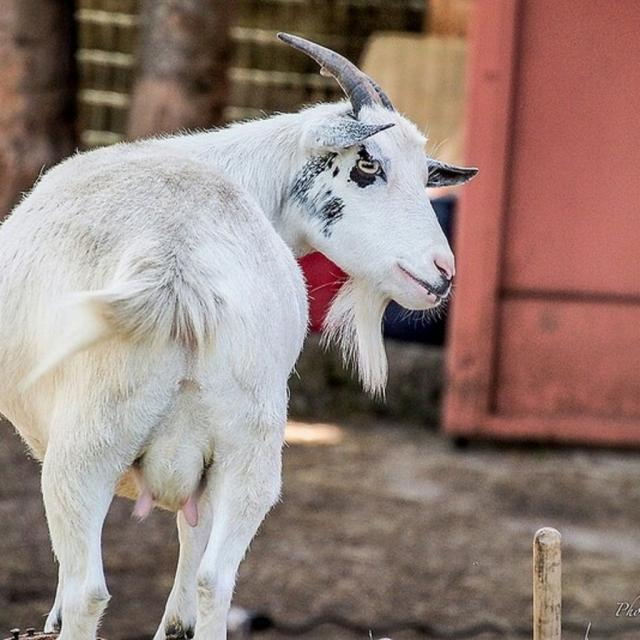Goat: (1, 32, 480, 639)
